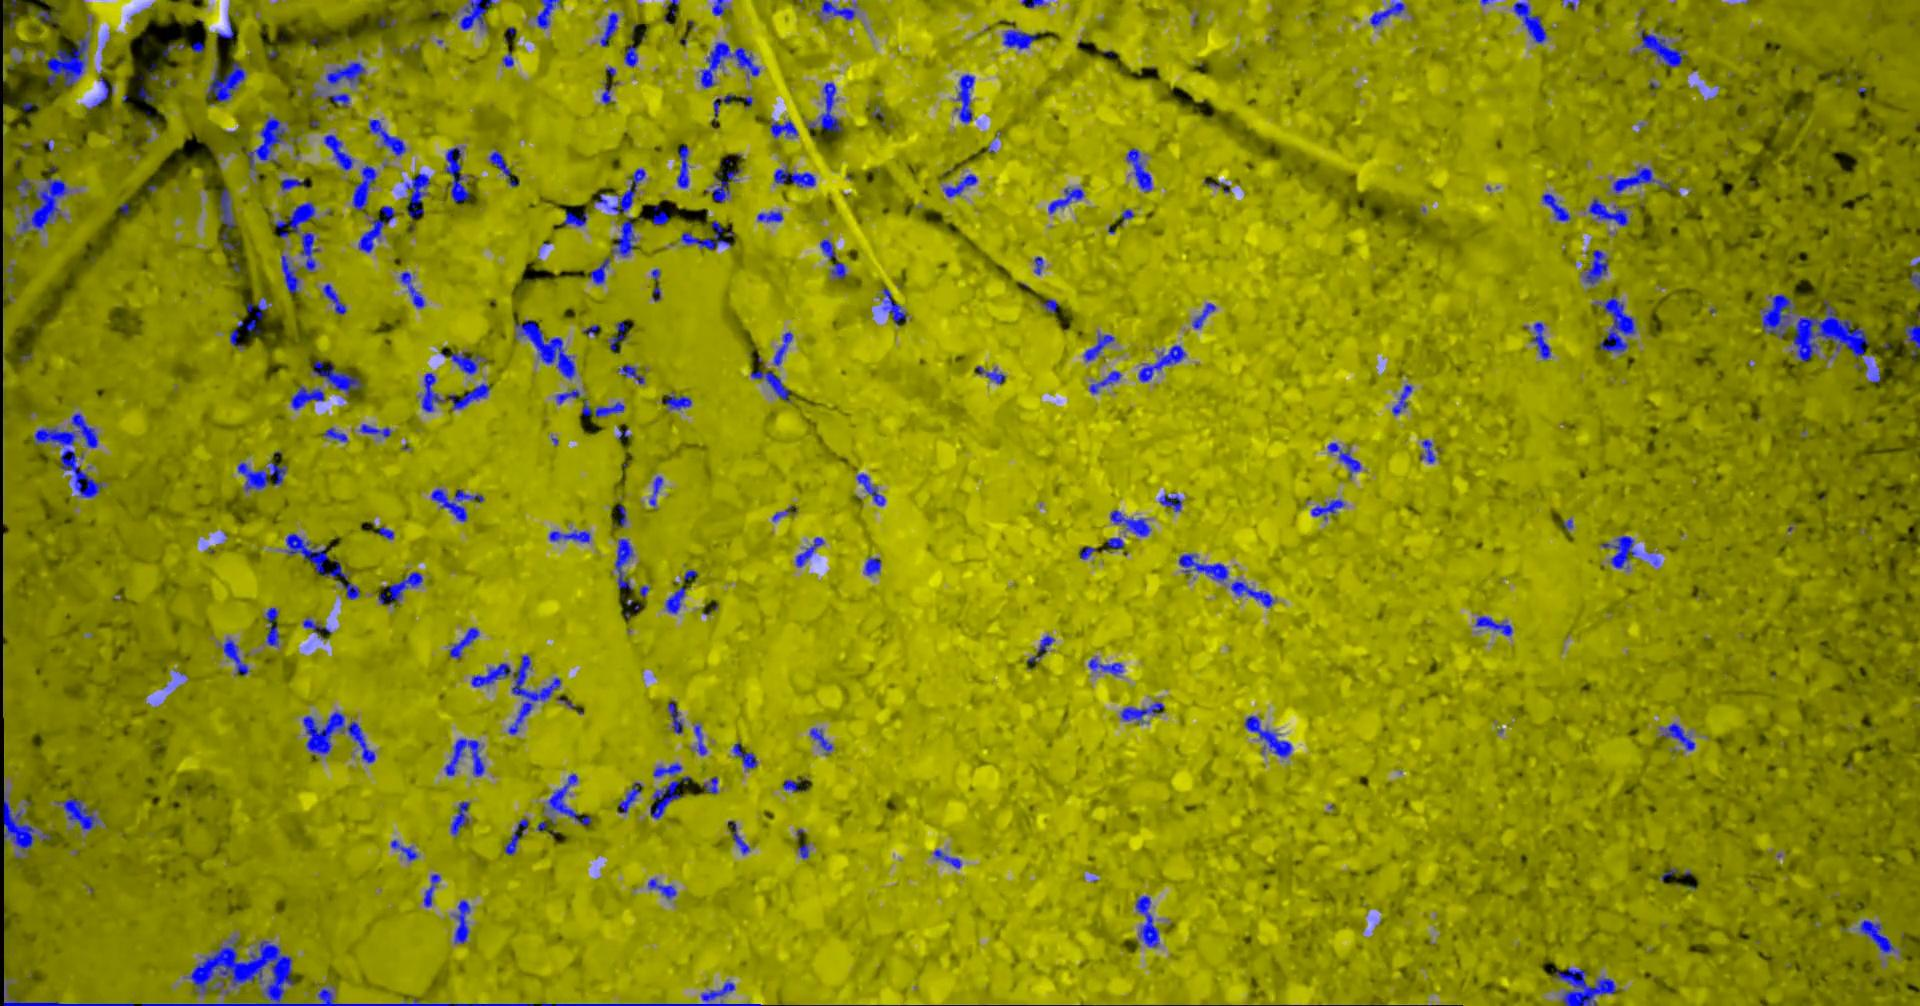ant: (540, 981, 761, 1005), (284, 533, 359, 600), (19, 177, 67, 232), (700, 42, 759, 86), (1592, 295, 1636, 352), (543, 774, 590, 826), (245, 114, 284, 170), (1244, 715, 1291, 757), (1638, 29, 1685, 67), (1138, 344, 1186, 381), (3, 795, 34, 851), (649, 776, 690, 819), (430, 488, 483, 521), (312, 359, 363, 392), (358, 205, 394, 251), (610, 168, 645, 213), (206, 61, 245, 102), (1760, 293, 1796, 337), (444, 738, 484, 776), (274, 201, 315, 238), (1611, 166, 1670, 192), (237, 461, 286, 492), (377, 572, 422, 605), (681, 220, 730, 249), (1512, 0, 1545, 43), (1178, 553, 1228, 580), (56, 796, 98, 829), (444, 146, 469, 202), (3, 995, 135, 1005), (368, 119, 405, 155), (218, 187, 239, 250), (750, 370, 791, 401), (1600, 535, 1638, 568), (1135, 895, 1159, 948), (1327, 442, 1360, 478), (1858, 920, 1893, 953), (404, 173, 429, 218), (1230, 580, 1274, 607), (488, 150, 519, 185), (350, 165, 376, 210), (323, 133, 353, 170), (1109, 509, 1150, 536), (818, 83, 841, 131), (819, 239, 846, 279), (237, 297, 268, 333), (1589, 198, 1628, 225), (418, 372, 444, 412), (458, 0, 494, 29), (448, 384, 489, 409), (439, 352, 486, 373), (1126, 149, 1150, 191), (222, 638, 249, 674), (611, 216, 635, 257), (711, 168, 740, 201), (856, 473, 885, 506), (1119, 701, 1163, 723), (325, 61, 364, 85), (1369, 0, 1404, 27), (1048, 187, 1083, 213), (399, 271, 424, 307), (448, 627, 479, 658), (955, 74, 974, 122), (1660, 723, 1694, 749), (615, 539, 632, 589), (1083, 332, 1114, 361), (795, 536, 824, 567), (883, 287, 905, 325), (1583, 249, 1608, 285), (504, 818, 528, 854), (773, 166, 815, 187), (942, 173, 977, 197), (290, 385, 324, 409), (817, 0, 856, 20), (298, 231, 319, 271), (1542, 193, 1570, 221), (1474, 615, 1512, 635), (1088, 370, 1121, 392), (582, 399, 623, 417), (1026, 635, 1054, 662), (1531, 321, 1550, 359), (1002, 29, 1037, 50), (1310, 498, 1343, 520), (728, 821, 749, 854), (535, 0, 560, 28), (731, 741, 757, 768), (617, 782, 641, 812), (323, 283, 345, 314), (281, 255, 298, 293), (455, 899, 470, 942), (450, 801, 469, 836), (1390, 384, 1411, 415), (773, 332, 792, 365), (91, 76, 112, 107), (599, 11, 617, 46), (1088, 657, 1123, 674), (607, 321, 627, 351), (1191, 304, 1215, 328), (1903, 324, 1919, 362), (809, 727, 832, 752), (712, 93, 734, 119), (589, 257, 610, 285), (664, 586, 684, 614), (302, 617, 330, 638), (648, 878, 676, 898), (975, 365, 1004, 384), (265, 607, 279, 647), (423, 873, 439, 906), (390, 840, 417, 860), (676, 145, 688, 187), (549, 530, 590, 542), (933, 848, 961, 868), (770, 119, 797, 137), (215, 14, 234, 39), (618, 365, 644, 384), (667, 702, 682, 733), (359, 423, 391, 437), (648, 476, 662, 506), (651, 762, 681, 776), (601, 81, 618, 104), (664, 394, 691, 409), (1203, 178, 1230, 192), (693, 724, 706, 754), (1418, 439, 1435, 462), (279, 178, 309, 191), (555, 387, 579, 403), (772, 506, 796, 521), (1159, 494, 1181, 511), (563, 211, 585, 226), (756, 210, 782, 222), (325, 91, 349, 105), (323, 427, 347, 441), (36, 9, 55, 25), (651, 205, 668, 224), (15, 178, 30, 198), (623, 44, 637, 66), (863, 558, 880, 575), (613, 506, 626, 527), (229, 329, 243, 348), (1105, 537, 1124, 551), (782, 777, 801, 791), (702, 776, 717, 793), (1078, 546, 1097, 559), (711, 0, 726, 15), (137, 86, 152, 102), (1043, 298, 1057, 312), (502, 50, 513, 66), (1032, 257, 1043, 274), (378, 526, 392, 539), (378, 17, 395, 27), (1021, 0, 1043, 8), (190, 41, 203, 53), (1910, 272, 1919, 290), (797, 843, 808, 857)
